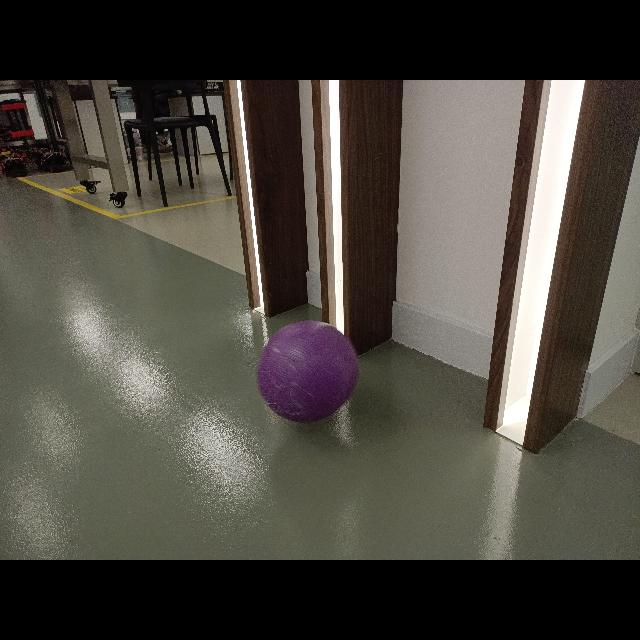P: (260, 321, 358, 422)
